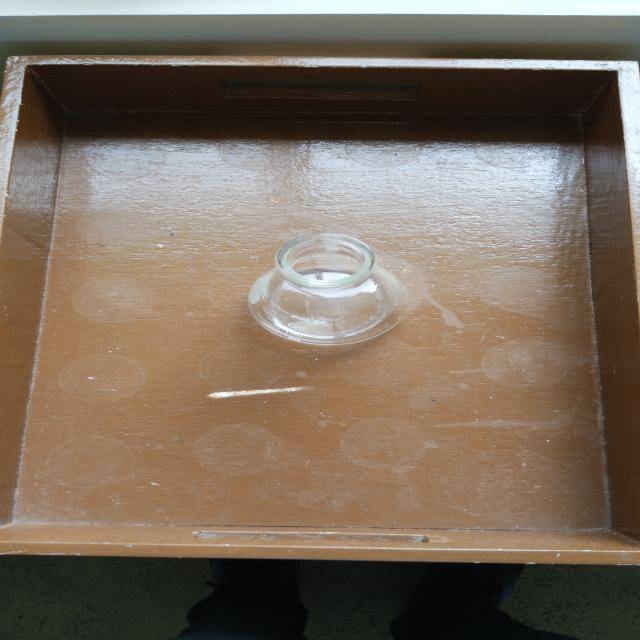erlenmeyer_flask: (224, 230, 430, 349)
